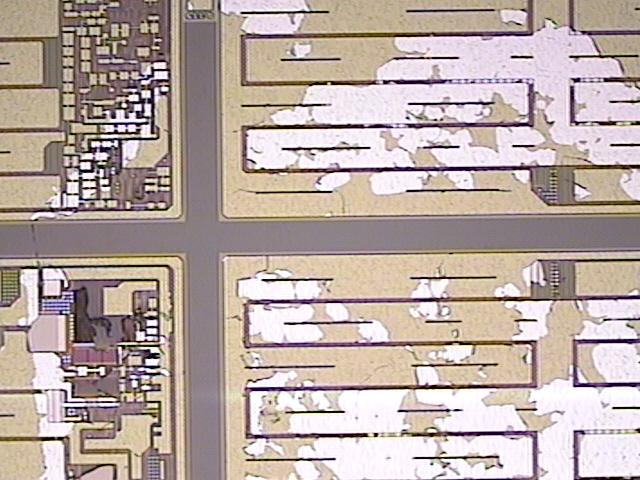COATING BAD: (19, 1, 640, 480)
